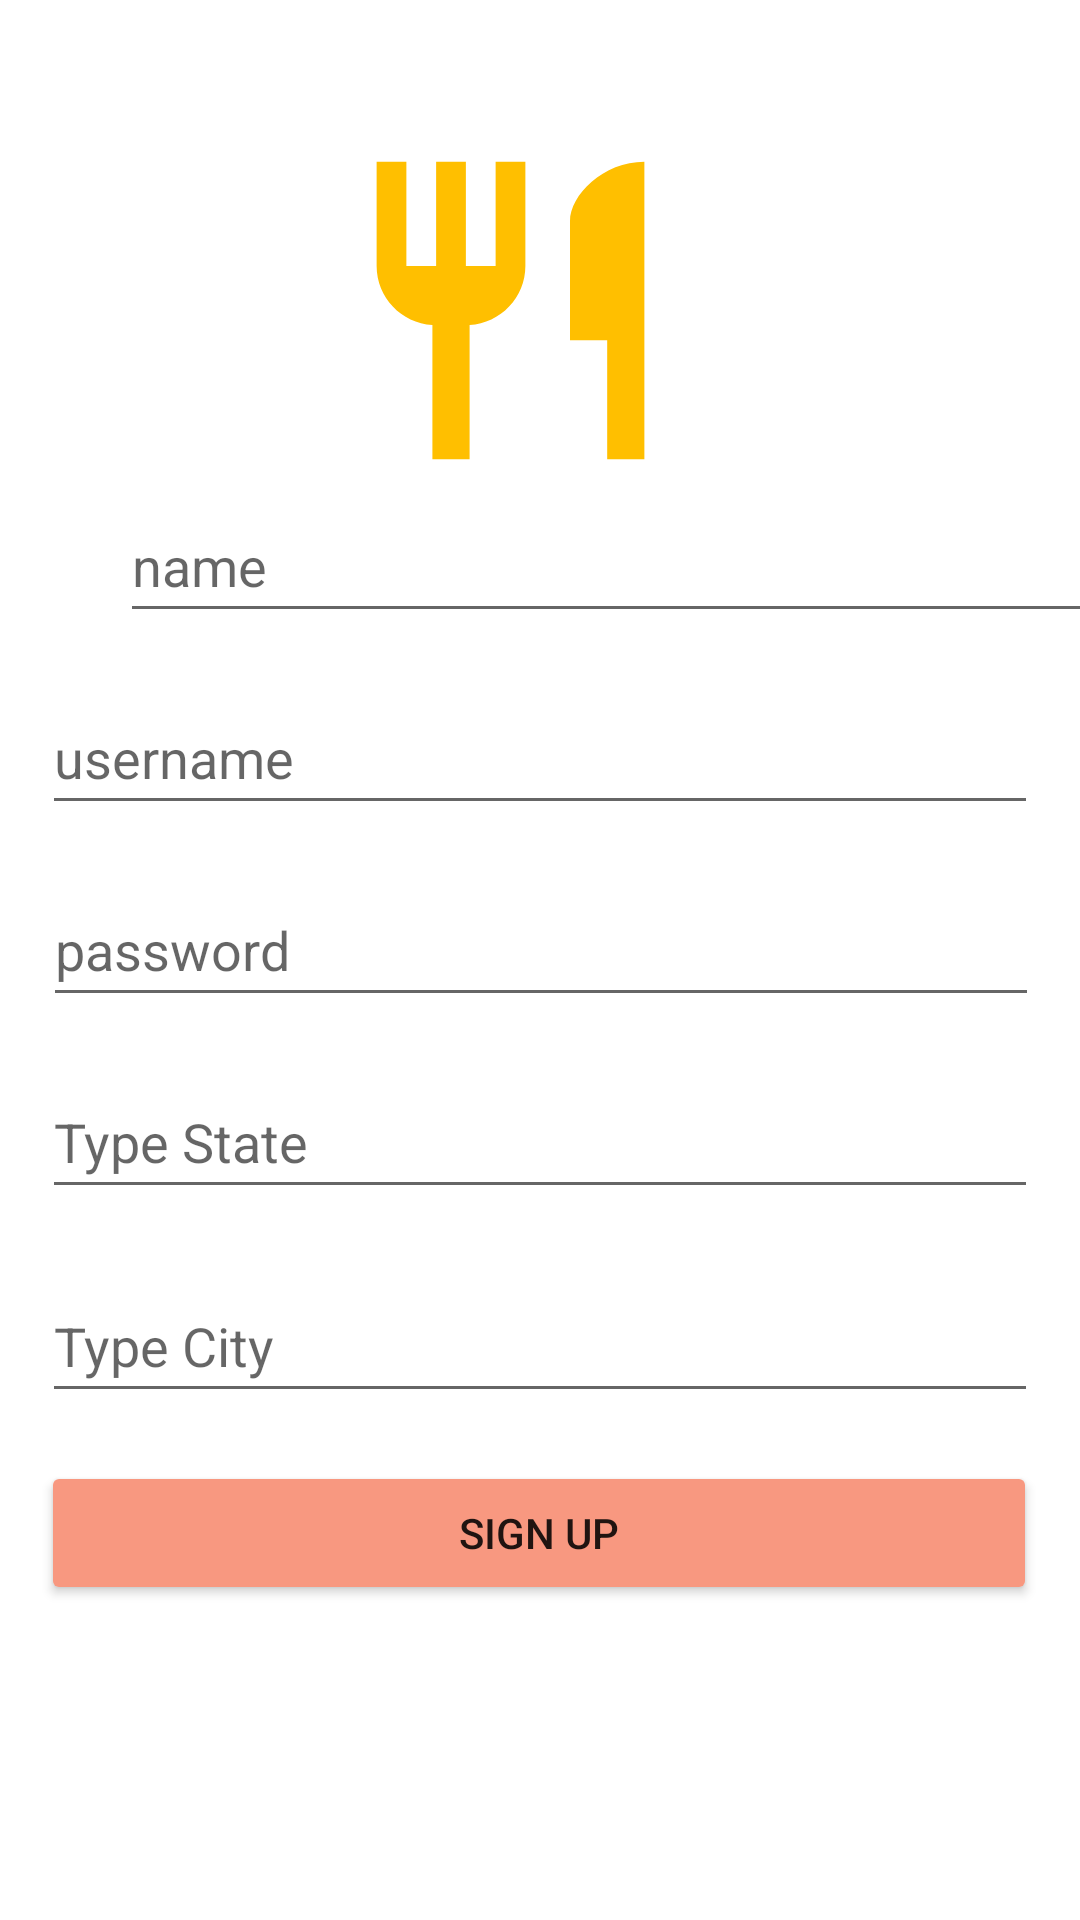

Icon bounding boxes for this 1080px×1920px phone screenshot, format (x1, y1, x2, y2):
restaurant: (376, 161, 645, 460)
